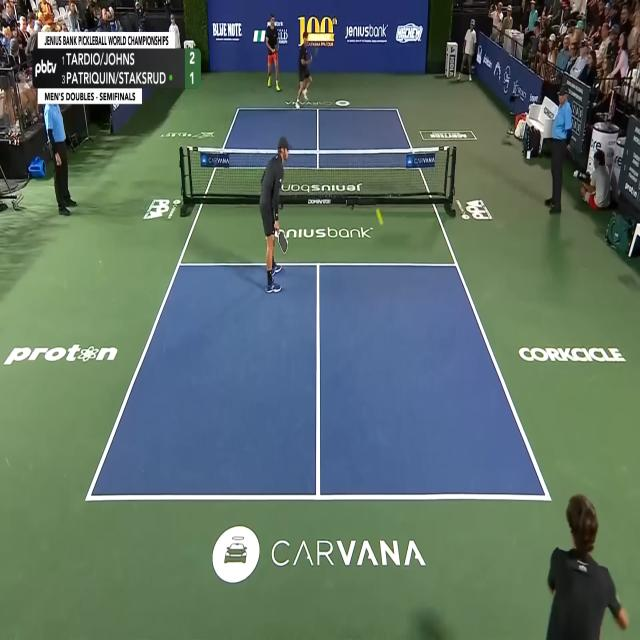ball: (376, 208, 384, 227)
